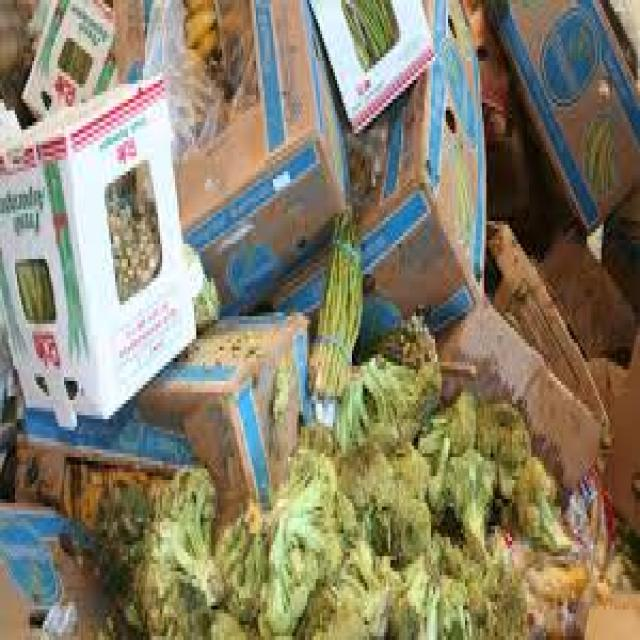food_waste: (170, 416, 569, 607)
